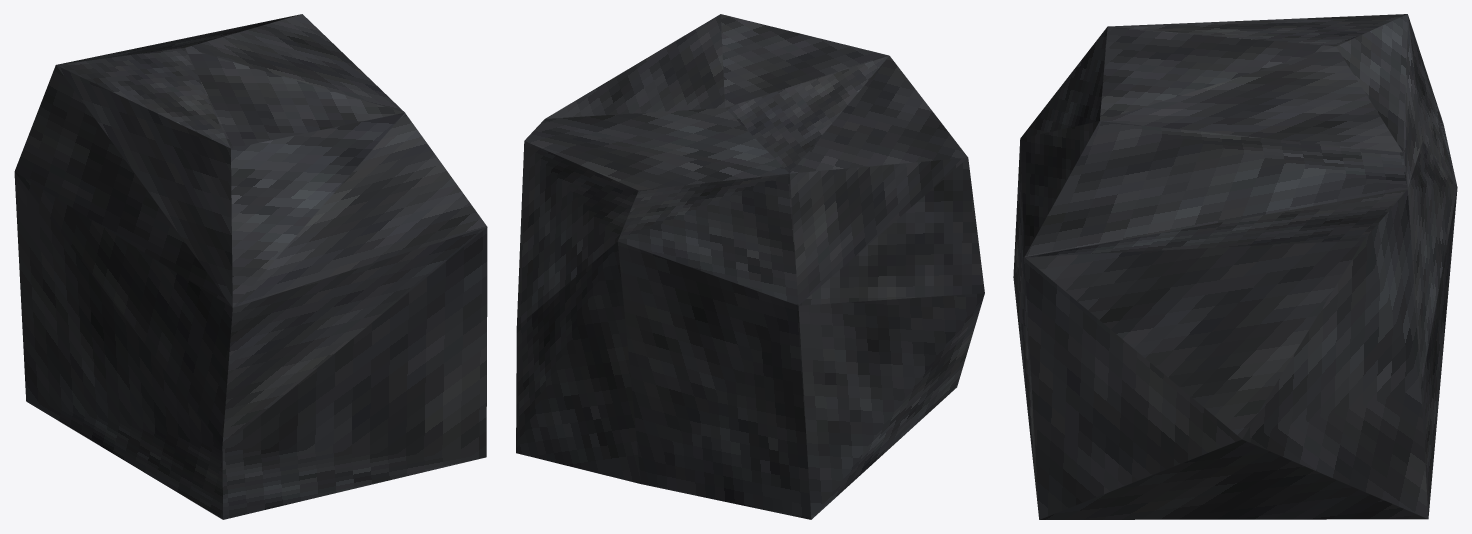
The model's file is stone_E.gltf.
3 views of the same model, side by side, from view 1: azimuth 30°, elevation 25°; view 2: azimuth 150°, elevation 25°; view 3: azimuth 270°, elevation 25° (orthographic). The views are drawn at different scales.
Visible parts, largest first — view 1: stone_C; view 2: stone_C; view 3: stone_C.
Boxes of the visible parts, x1,y1,x2,y2 form: stone_C: (14, 14, 487, 519); stone_C: (516, 14, 984, 519); stone_C: (1013, 14, 1457, 519).
Size of the model in its own units: 0.9541 by 0.9879 by 1.03.
1 material, 1 textured.
